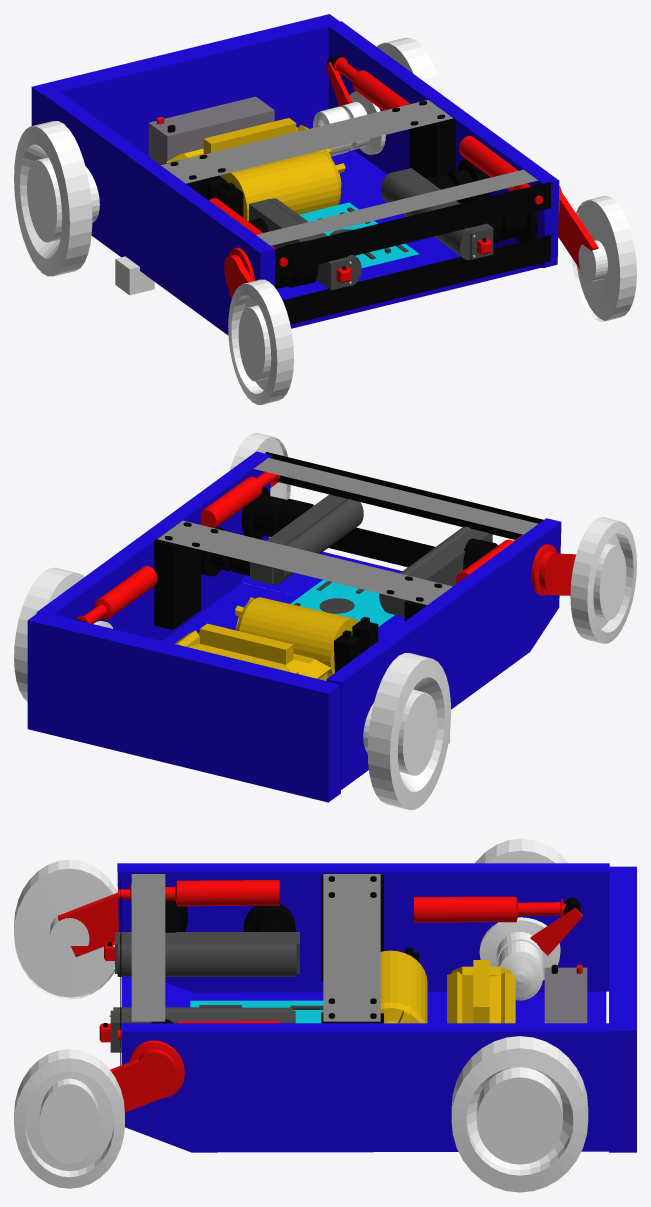
File: Robotics2.33e14255.glb
3 views of the same model, one above another, from view 1: azimuth 30°, elevation 25°; view 2: azimuth 150°, elevation 25°; view 3: azimuth 270°, elevation 25° (orthographic). The views are drawn at different scales.
Visible parts, largest first — view 1: Cube.002, Cube.003, Cube.001, Cylinder.004, Plane.002, Plane.001, Cylinder.009, Plane.004, Cylinder.008, Cylinder.020, Cube.014, Plane.005 (+18 smaller); view 2: Cube.003, Cube.002, Cube.001, Cylinder.004, Cylinder.009, Plane.004, Cylinder.020, Plane.005, Cube.026, Cube.027, Plane.002, Cylinder.005 (+17 smaller); view 3: Cube.001, Cube.002, Cylinder.005, Cylinder.008, Cylinder.009, Plane.004, Cube.003, Cylinder.004, Plane.005, Cylinder.010, Cube.027, Cylinder (+15 smaller).
Boxes of the visible parts, left/top/right/bottom form: Cube.002: left=42, top=90, right=275, bottom=335; Cube.003: left=31, top=14, right=339, bottom=156; Cube.001: left=276, top=21, right=559, bottom=300; Cylinder.004: left=14, top=121, right=99, bottom=276; Plane.002: left=275, top=182, right=551, bottom=274; Plane.001: left=282, top=235, right=550, bottom=324; Cylinder.009: left=228, top=279, right=293, bottom=404; Plane.004: left=160, top=100, right=452, bottom=183; Cylinder.008: left=571, top=196, right=636, bottom=321; Cylinder.020: left=219, top=150, right=345, bottom=221; Cube.014: left=148, top=96, right=274, bottom=164; Plane.005: left=256, top=169, right=538, bottom=245; Cube.003: left=27, top=612, right=340, bottom=802; Cube.002: left=326, top=518, right=561, bottom=789; Cube.001: left=36, top=451, right=403, bottom=643; Cylinder.004: left=363, top=653, right=451, bottom=809; Cylinder.009: left=570, top=517, right=636, bottom=643; Plane.004: left=157, top=520, right=452, bottom=604; Cylinder.020: left=235, top=597, right=358, bottom=677; Plane.005: left=253, top=458, right=538, bottom=534; Cube.026: left=154, top=522, right=200, bottom=629; Cube.027: left=175, top=623, right=331, bottom=680; Plane.002: left=265, top=452, right=543, bottom=539; Cylinder.005: left=14, top=567, right=113, bottom=701; Cube.001: left=121, top=991, right=613, bottom=1152; Cube.002: left=117, top=863, right=609, bottom=992; Cylinder.005: left=451, top=1036, right=588, bottom=1192; Cylinder.008: left=14, top=1049, right=124, bottom=1188; Cylinder.009: left=14, top=859, right=117, bottom=999; Plane.004: left=323, top=874, right=380, bottom=1021; Cube.003: left=609, top=866, right=636, bottom=1152; Cylinder.004: left=475, top=838, right=568, bottom=1000; Plane.005: left=131, top=874, right=165, bottom=1021; Cylinder.010: left=117, top=942, right=296, bottom=976; Cube.027: left=447, top=960, right=515, bottom=1023; Cylinder: left=414, top=896, right=565, bottom=922.
Bounding box in the file's own units: 30.29 × 11.09 × 38.28.
